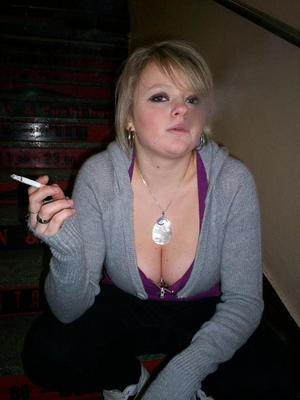person: (25, 41, 264, 398)
